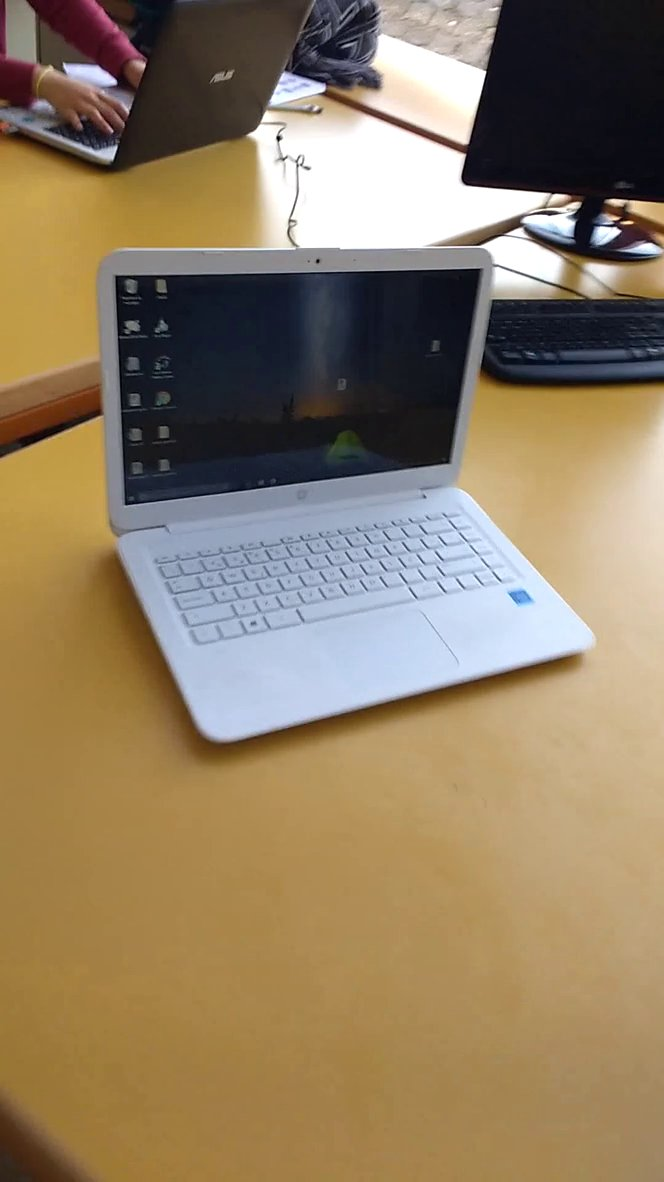laptop: (102, 240, 609, 756), (1, 2, 331, 183)
